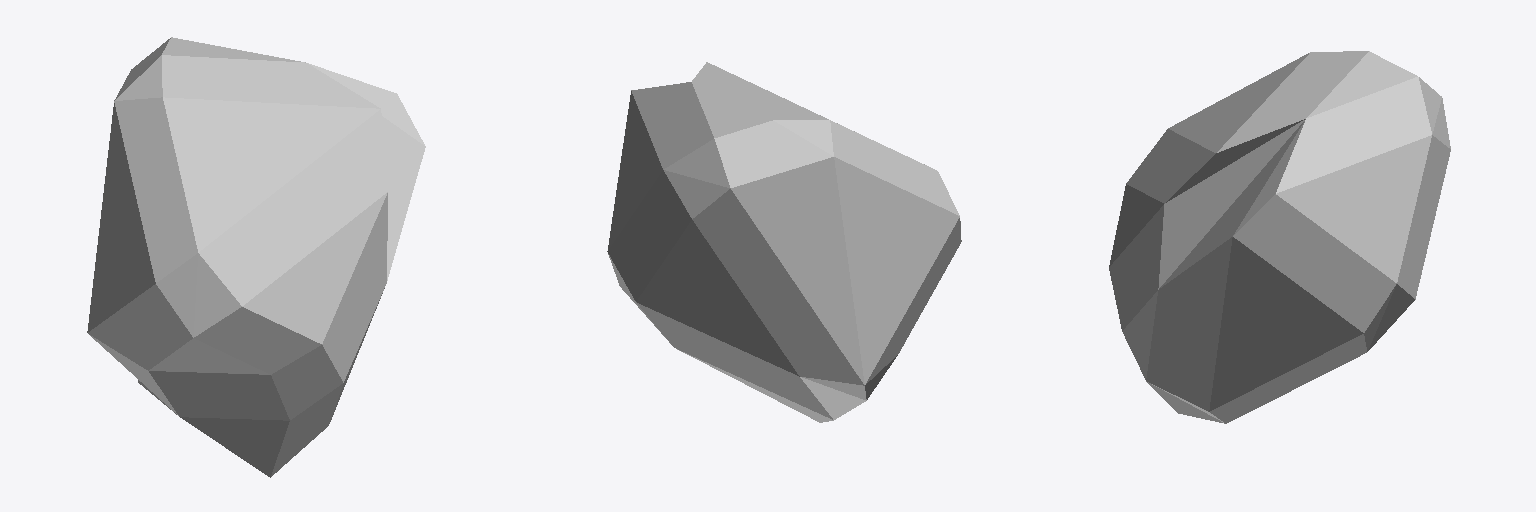
File: rock_4.obj
3 renders of one model, left to right at view 1: azimuth 30°, elevation 25°; view 2: azimuth 150°, elevation 25°; view 3: azimuth 270°, elevation 25°, orthographic.
Parts seen in each view (by area): view 1: Cube.002; view 2: Cube.002; view 3: Cube.002.
Part boxes in pixels (left/top/right/bottom): Cube.002: left=87, top=37, right=425, bottom=477; Cube.002: left=607, top=62, right=961, bottom=422; Cube.002: left=1109, top=51, right=1450, bottom=423.
Bounding box in the file's own units: 8.72 × 10.28 × 8.84.